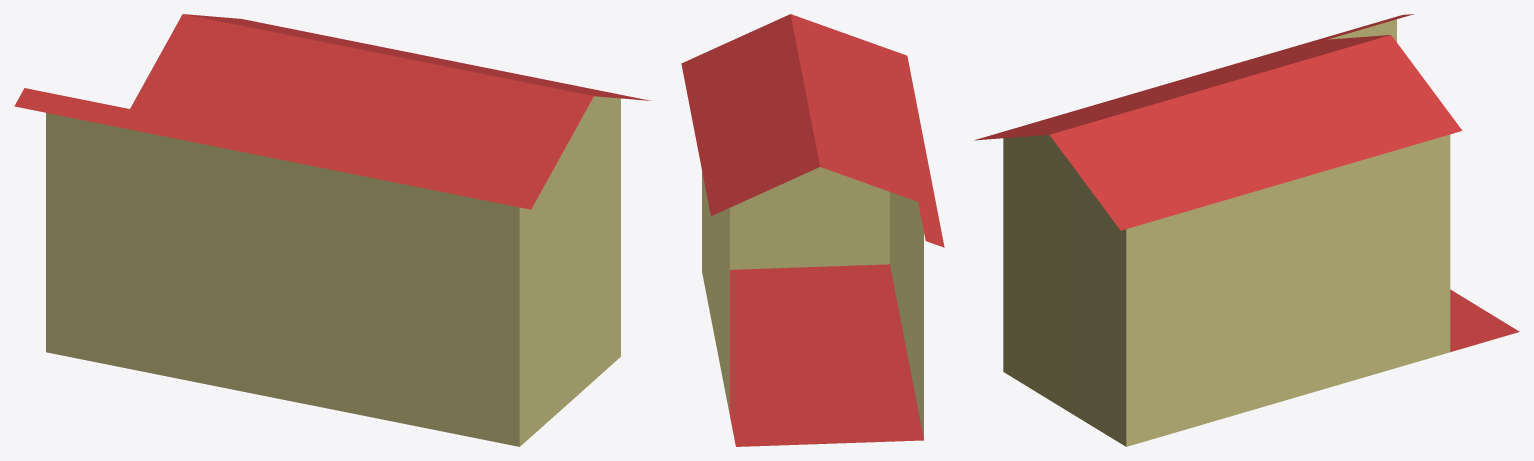
3 renders of one model, left to right at view 1: azimuth 30°, elevation 25°; view 2: azimuth 150°, elevation 25°; view 3: azimuth 270°, elevation 25°, orthographic. The views are drawn at different scales.
Bounding box in the file's own units: 11.73 × 12.56 × 7.13.
